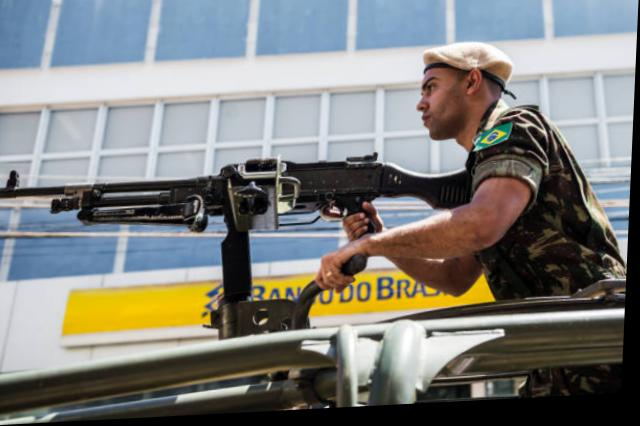other: (368, 57, 600, 311)
